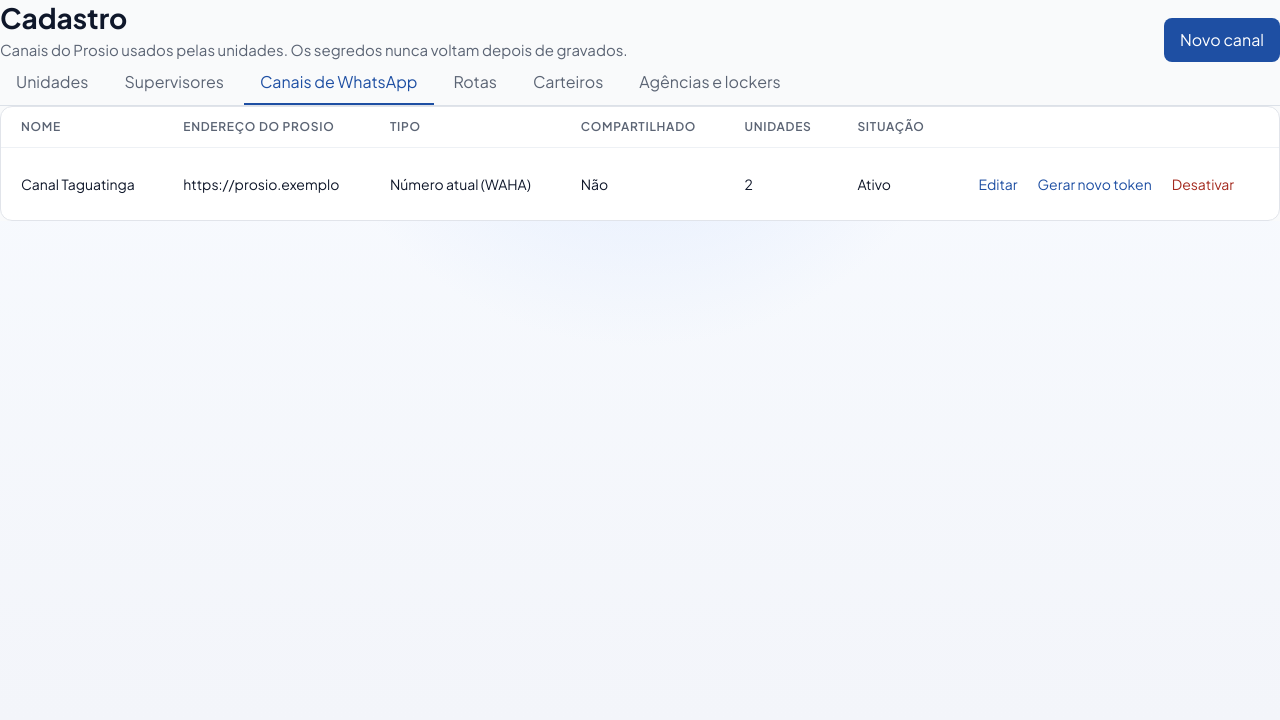
Scenario: Cadastro (auditoria) › canal: gerar novo token pede confirmação, mostra o token uma vez, não fecha com Esc e tem "Copiar"
This screenshot has width=1280, height=720.
Click the button with aria-label "Gerar novo token de Canal Taguatinga" at (1095, 184), box [1030,162,1160,206]
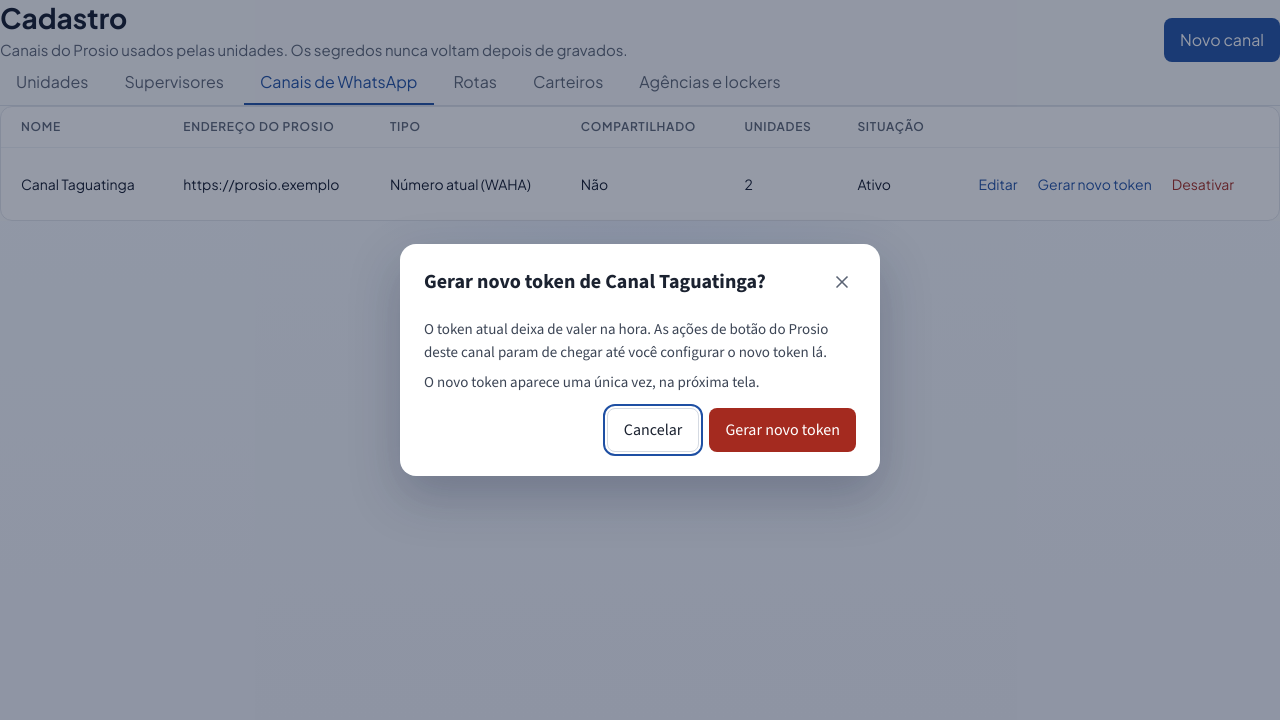
Result: the dialog "Gerar novo token de Canal Taguatinga?" shows "O token atual deixa de valer na hora" at [424,319,828,362]
Click the button "Gerar novo token" at (783, 430), box [709,408,856,452]
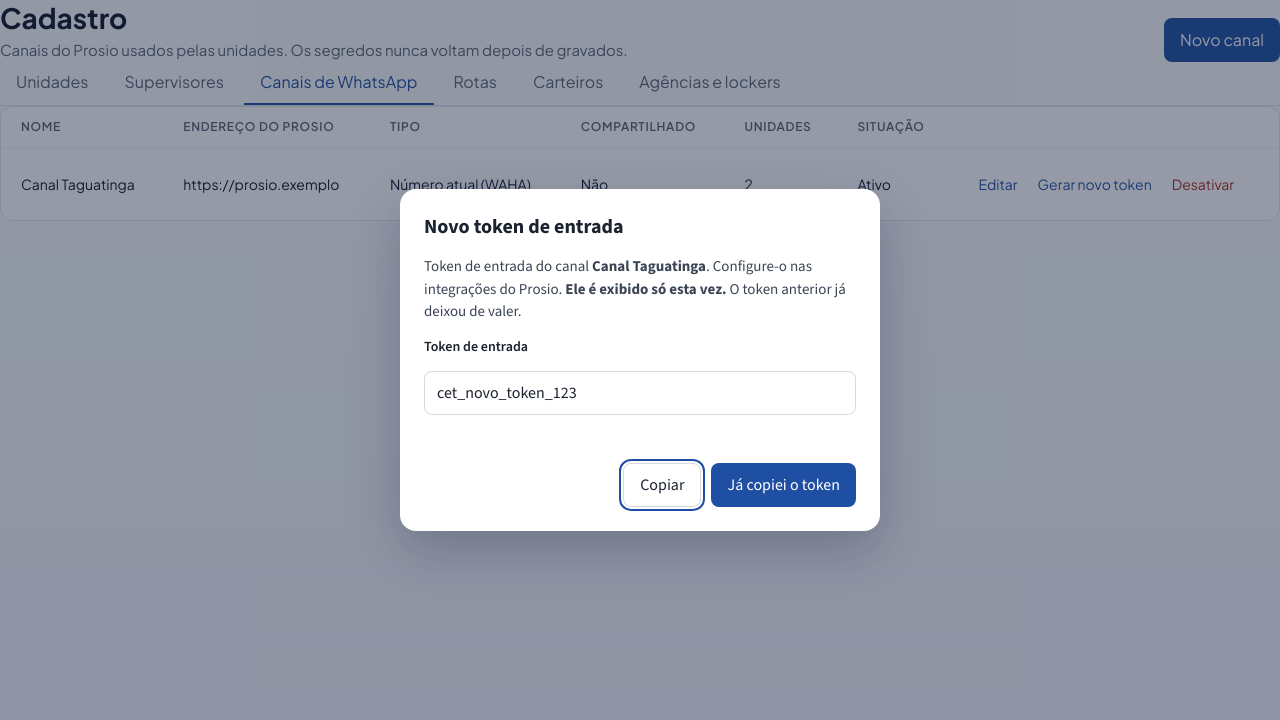
Result: the field labelled "Token de entrada" holds "cet_novo_token_123" at [424,371,856,415]
Result: the dialog "Novo token de entrada" shows "Ele é exibido só esta vez." at [565,279,726,299]
Result: the button "Fechar" is gone
Press Escape
Result: the dialog "Novo token de entrada" is shown at [400,189,880,531]
Click the button "Copiar" at (662, 485), box [623,463,702,507]
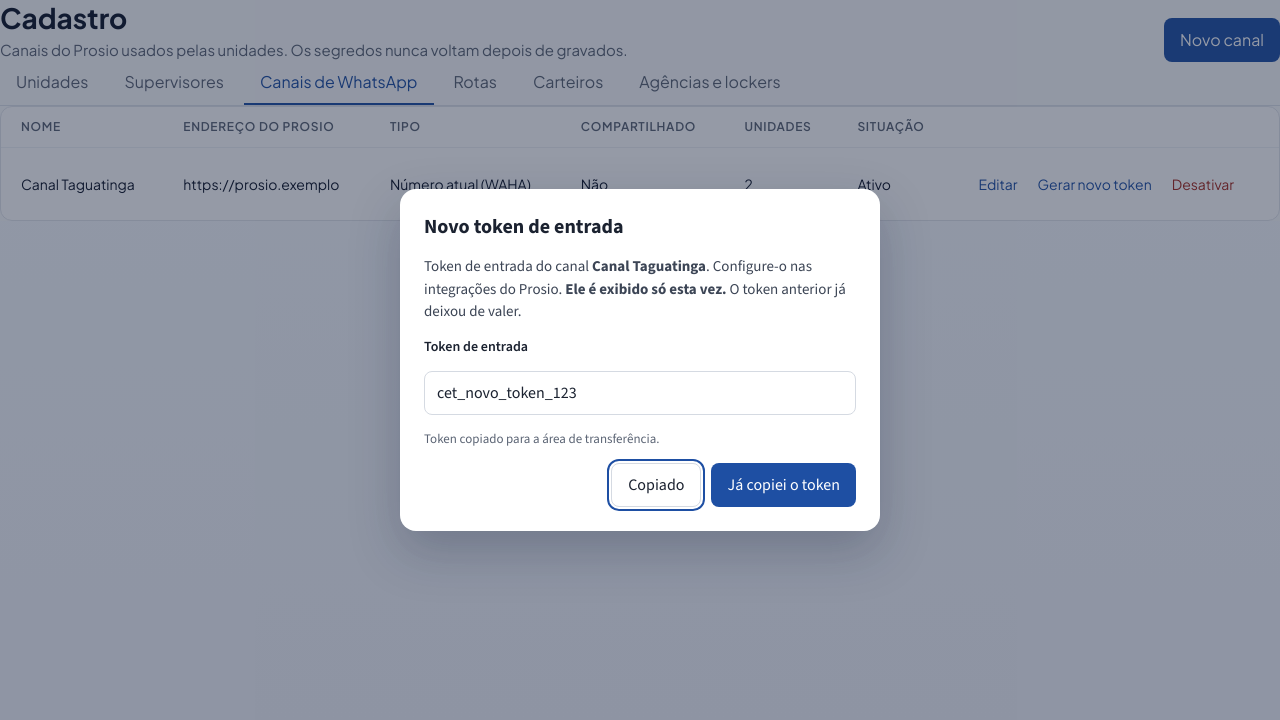
Result: the text "Token copiado para a área de transferência." is shown at [424,430,659,447]
Result: the button "Copiado" is shown at [611,463,702,507]
Click the button "Já copiei o token" at (784, 485), box [712,463,856,507]
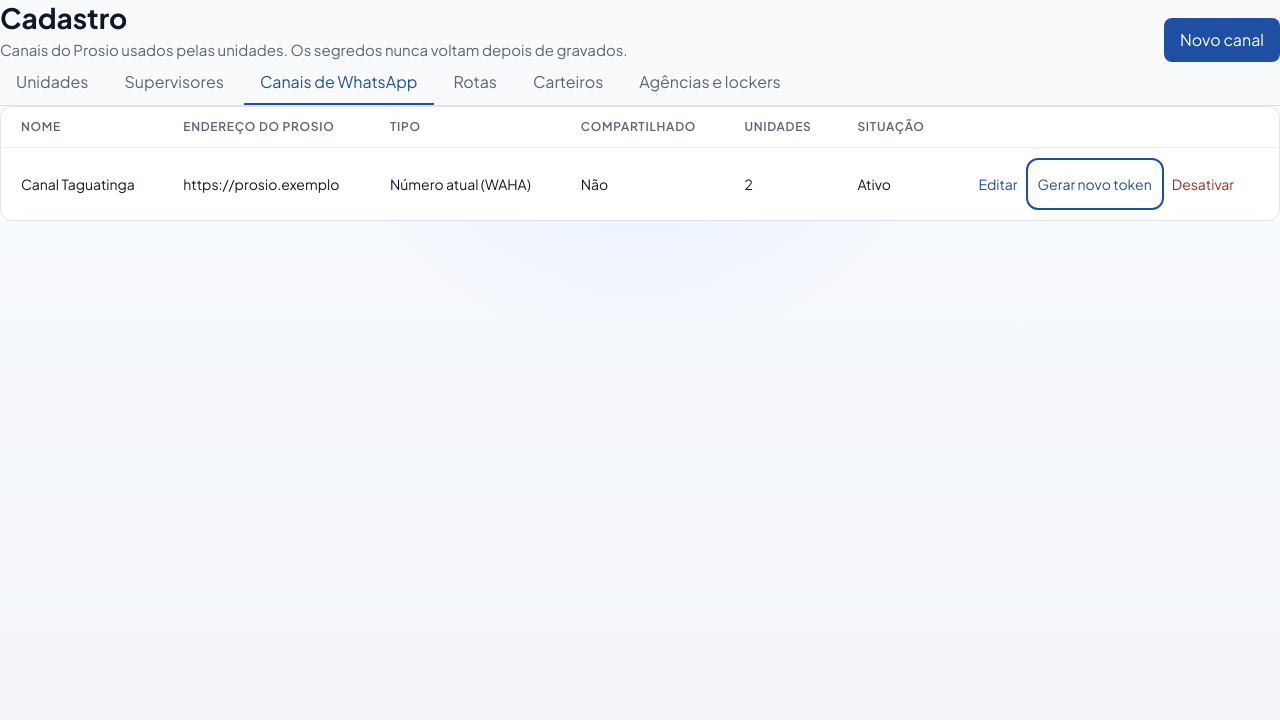
Result: the dialog is gone
